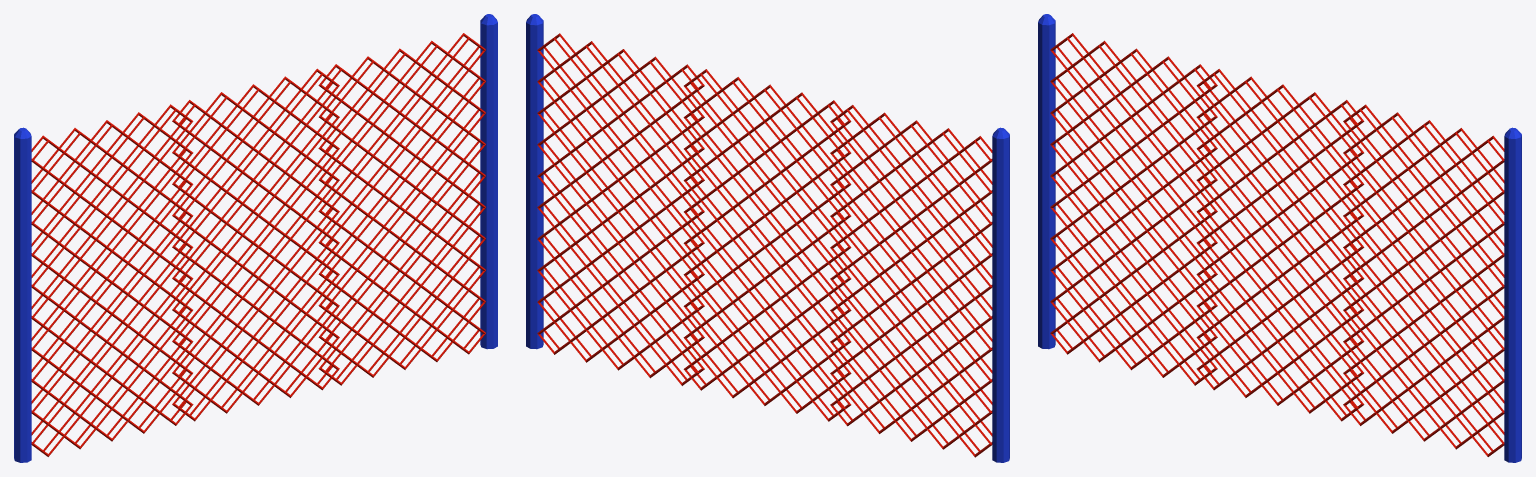
Rendered from PatioProp_Cerca.fbx.
The picture shows the model from 3 angles, left to right: view 1: azimuth 30°, elevation 25°; view 2: azimuth 150°, elevation 25°; view 3: azimuth 330°, elevation 25°; orthographic projection.
Parts seen in each view (by area): view 1: Grid; view 2: Grid; view 3: Grid.
Part boxes in pixels (box(x1,y1,x2,y2)): Grid: box(14, 14, 497, 462); Grid: box(526, 14, 1009, 462); Grid: box(1038, 14, 1521, 462).
Size of the model in its own units: 634 by 417 by 20.81.
